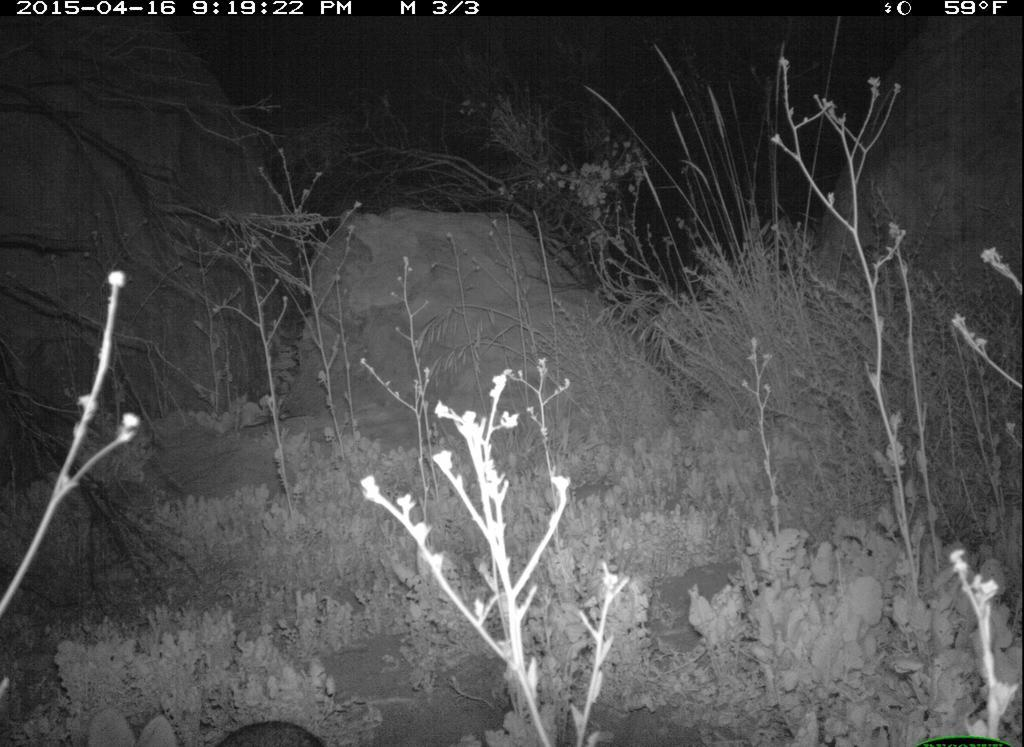rabbit: (79, 703, 335, 747)
